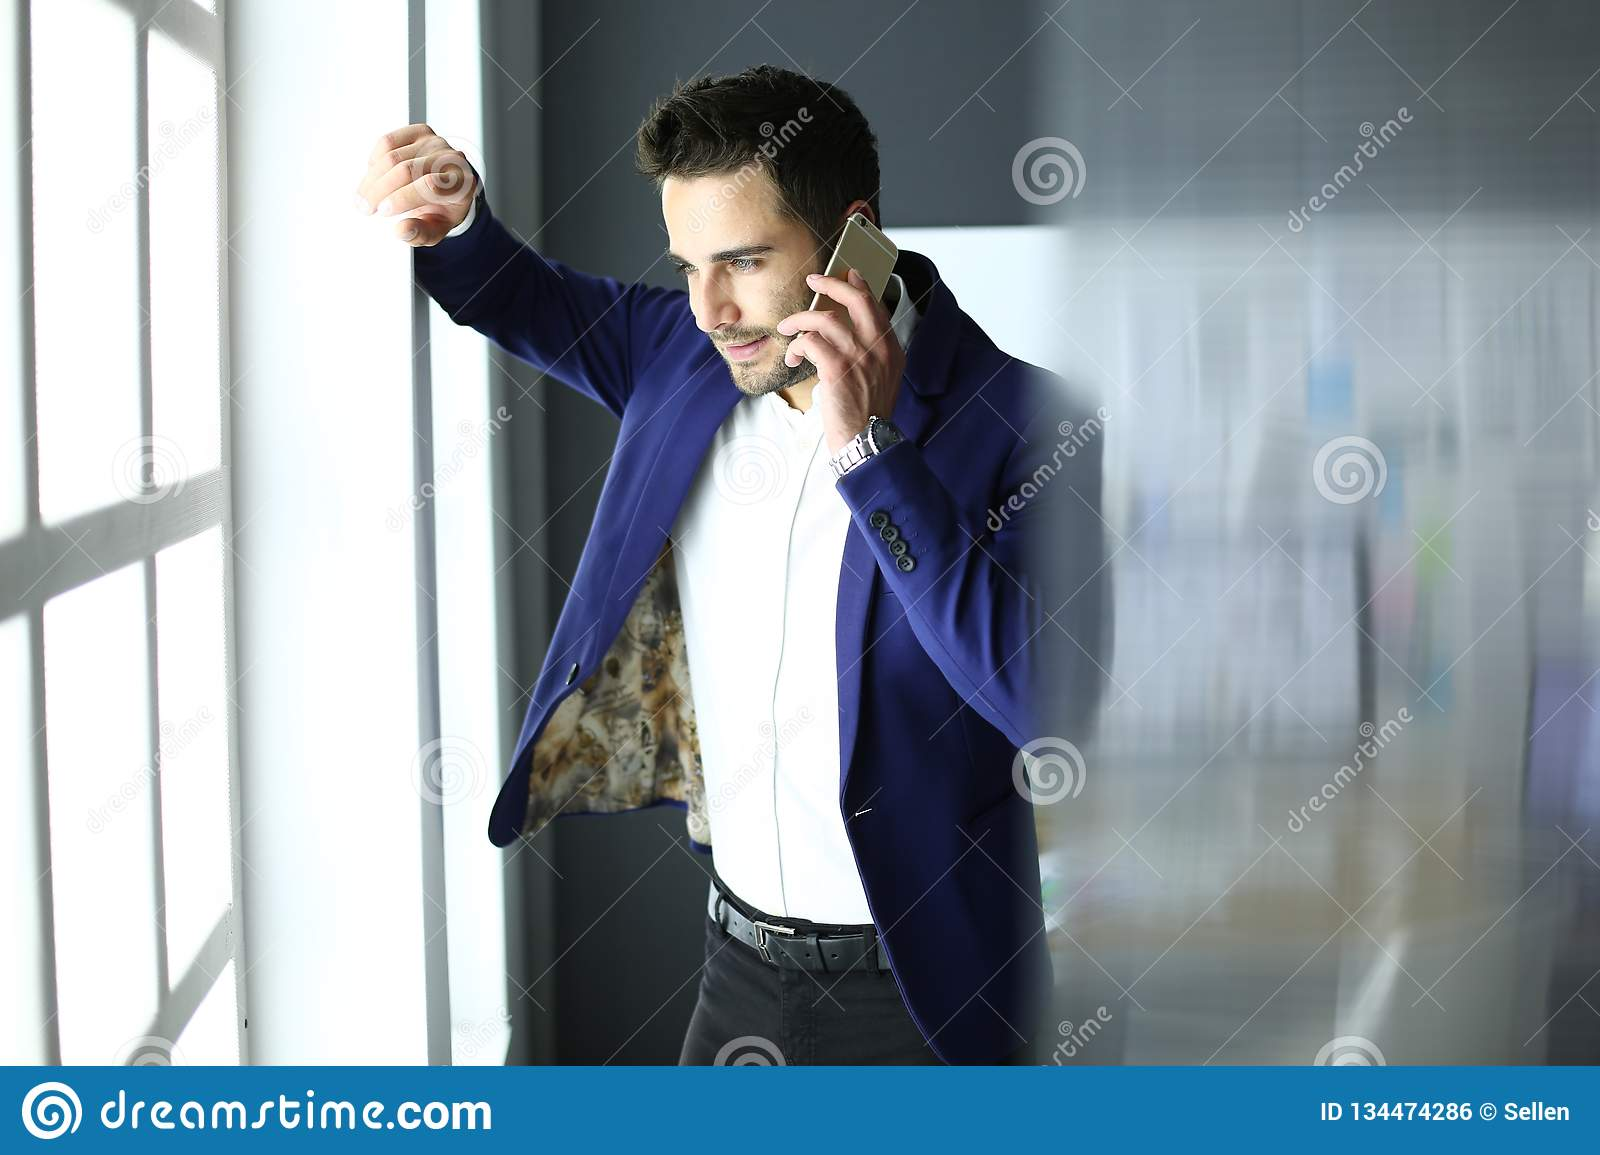phone: (798, 219, 906, 354)
talk: (675, 211, 908, 457)
